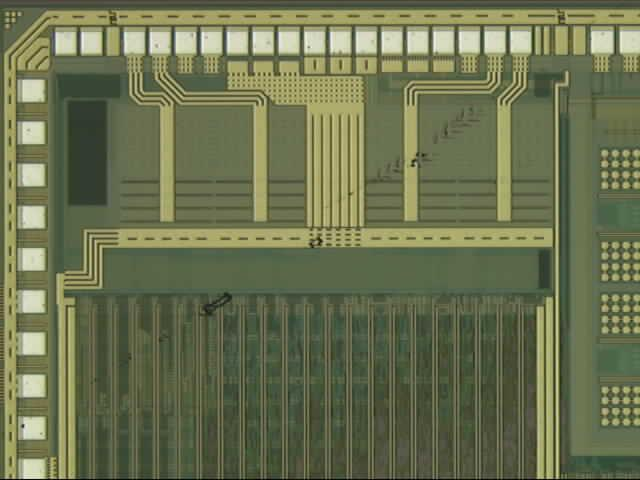SCRATCH: (8, 88, 505, 437)
